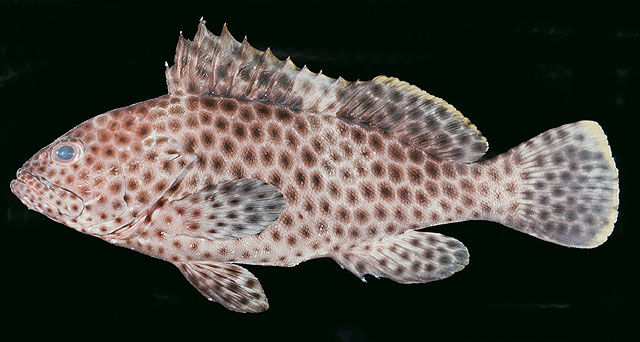fish: (10, 16, 621, 314)
